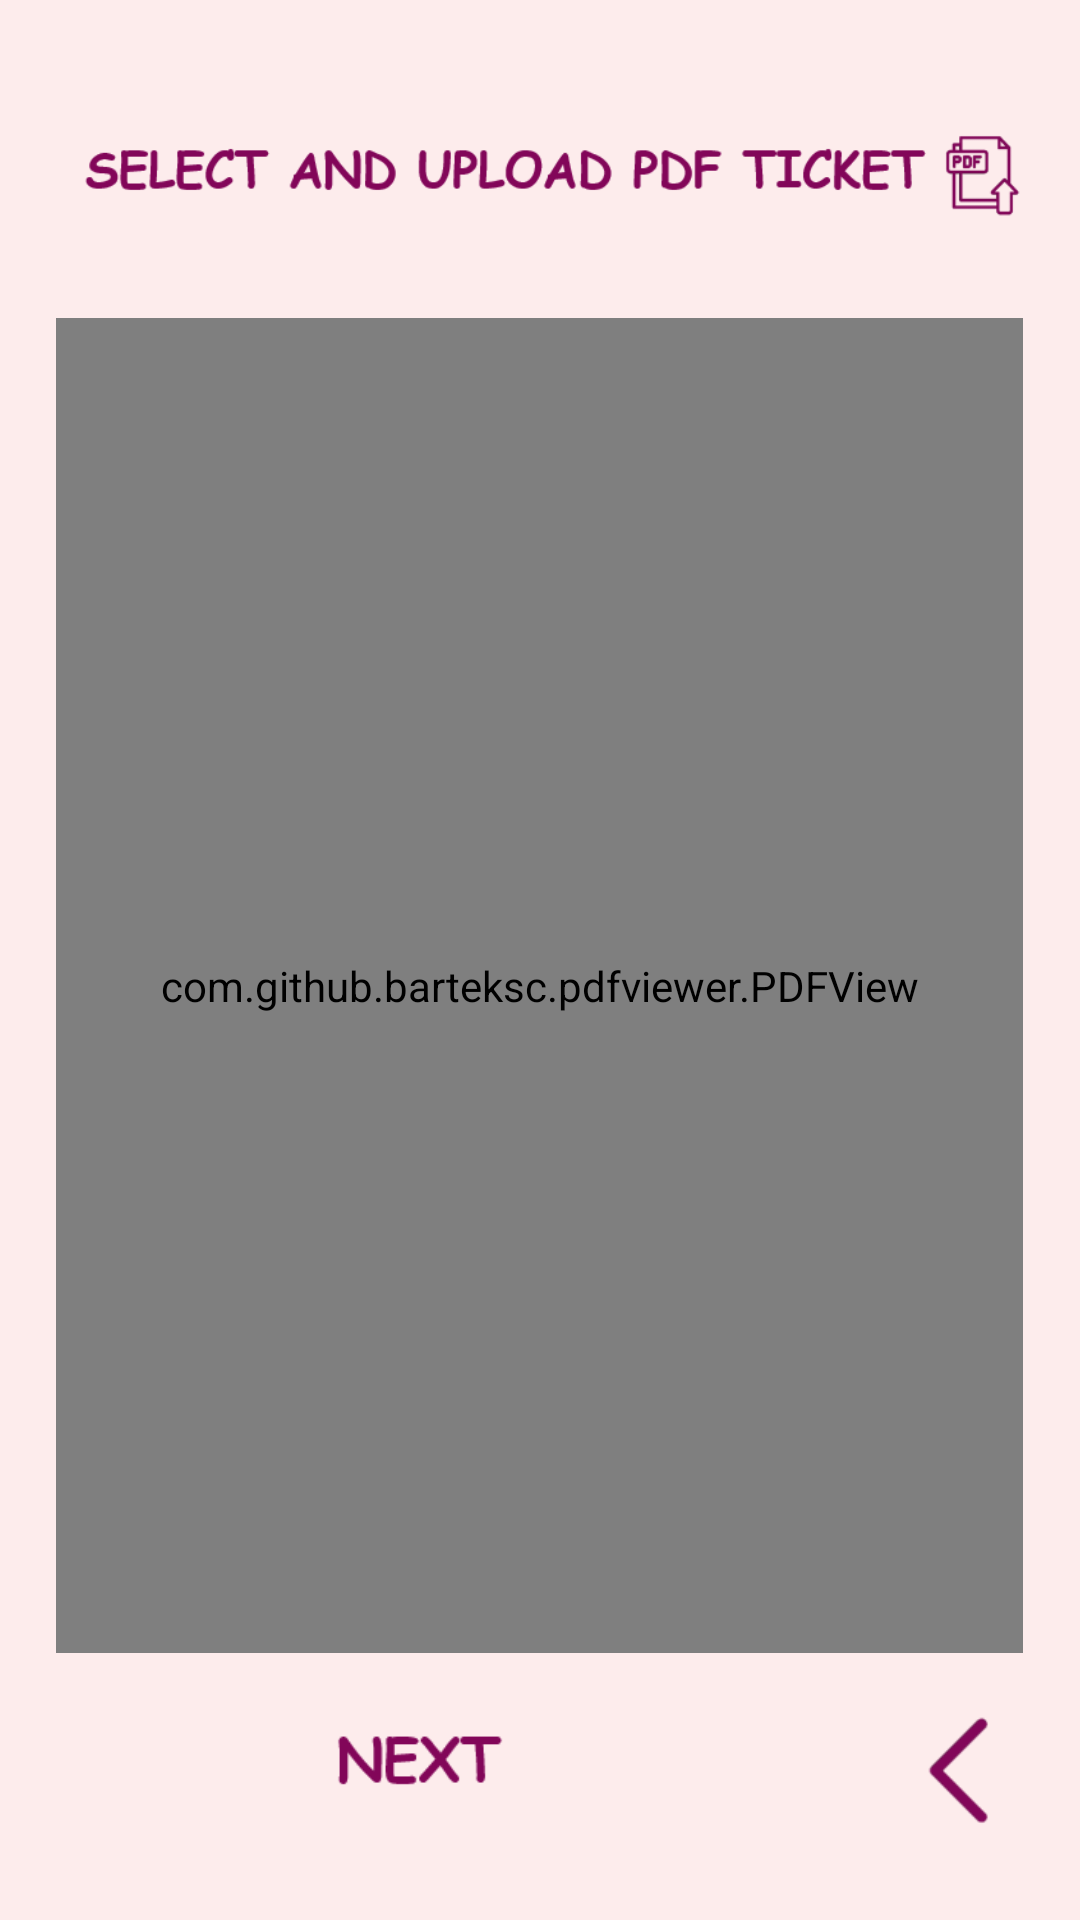

Icon bounding boxes for this 1080px×1920px phone screenshot, format {"x1": x1, "y1": y1, "x2": x2, "y2": y2}:
back: {"x1": 929, "y1": 1717, "x2": 988, "y2": 1823}
